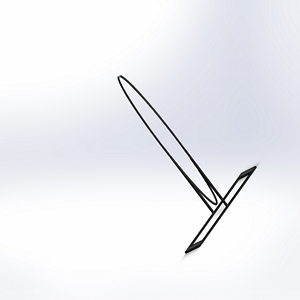circle: (114, 71, 259, 254)
